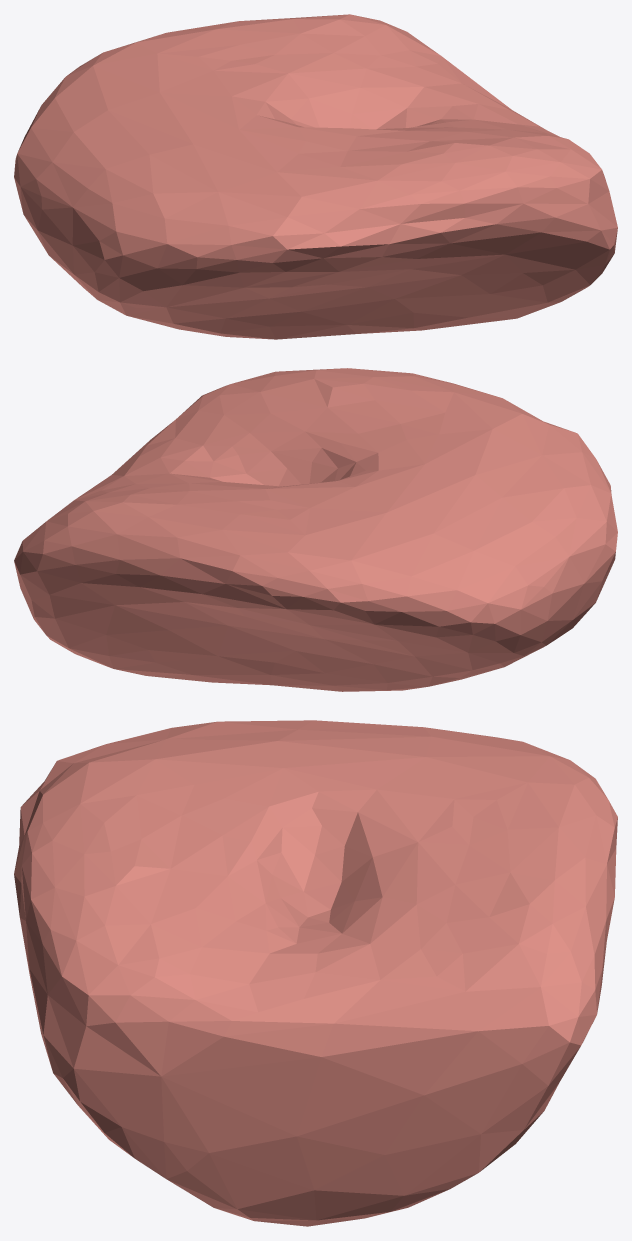
The picture shows the model from 3 angles, top to bottom: view 1: azimuth 30°, elevation 25°; view 2: azimuth 150°, elevation 25°; view 3: azimuth 270°, elevation 25°; orthographic projection. The views are drawn at different scales.
Parts seen in each view (by area): view 1: 223.obj; view 2: 223.obj; view 3: 223.obj.
Part boxes in pixels (x1,y1,x2,y2): 223.obj: (14,14,617,339); 223.obj: (14,368,617,691); 223.obj: (14,720,617,1226).
Size of the model in its own units: 1072 by 534 by 986.
